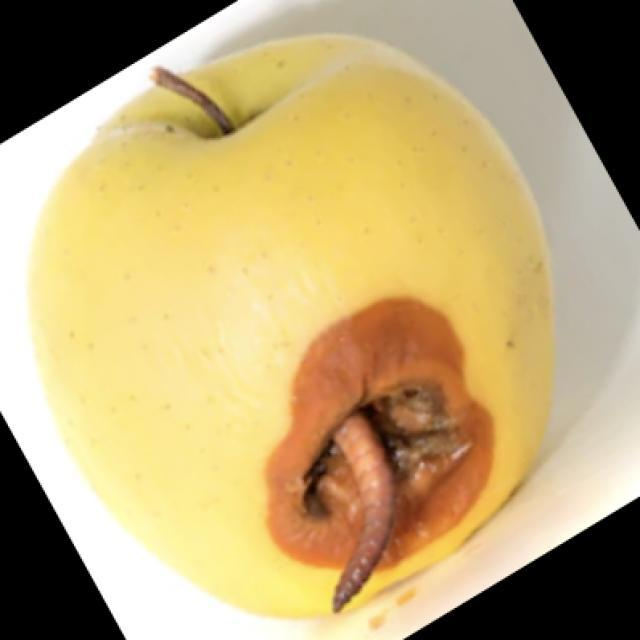Rotten: (50, 55, 543, 613)
